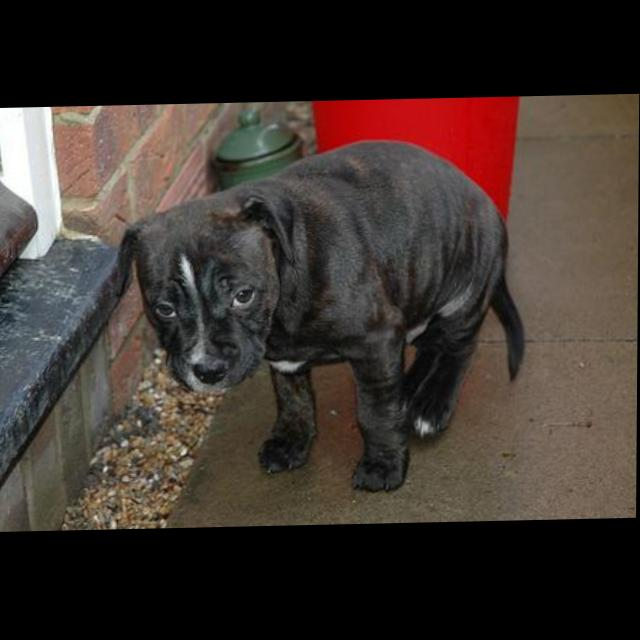staffford: (115, 138, 528, 499)
